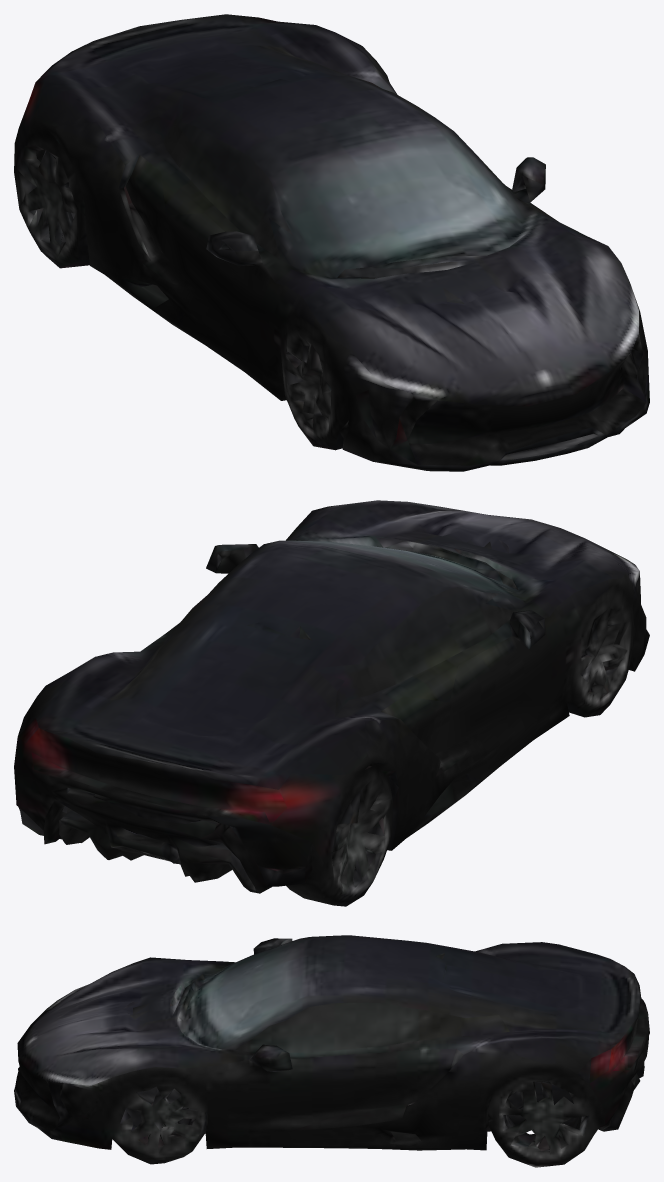
Rendered from dk-meshy-black-car-lite.glb.
3 renders of one model, top to bottom at view 1: azimuth 30°, elevation 25°; view 2: azimuth 150°, elevation 25°; view 3: azimuth 270°, elevation 25°, orthographic. The views are drawn at different scales.
Bounding box in the file's own units: 0.904 × 0.5346 × 2.
Materials: 1 (1 with a texture image).
